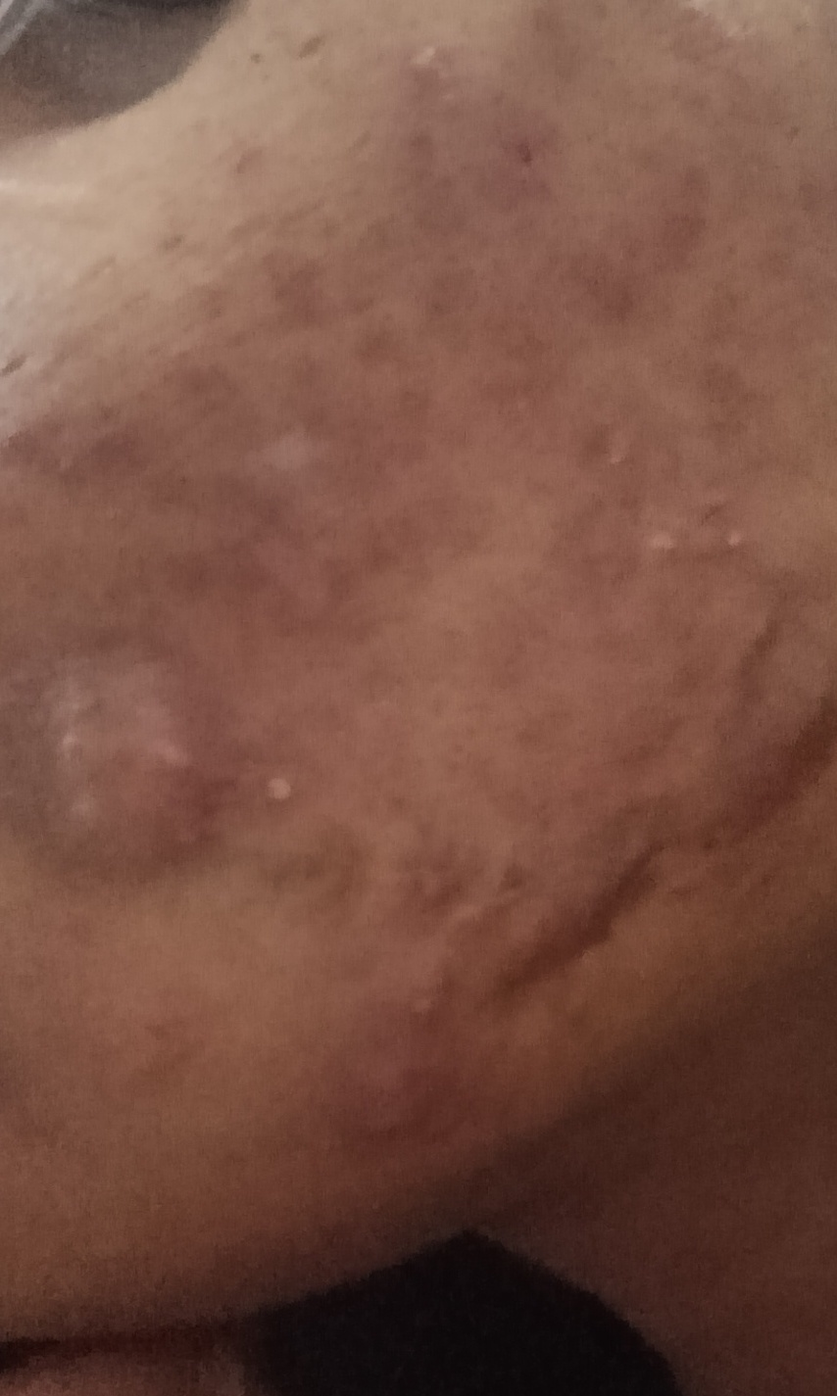nodule: (38, 668, 213, 912), (352, 984, 453, 1140)
pustule: (637, 511, 725, 594), (236, 744, 313, 834)
